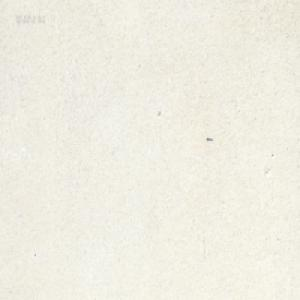Nail: (206, 136, 213, 141)
